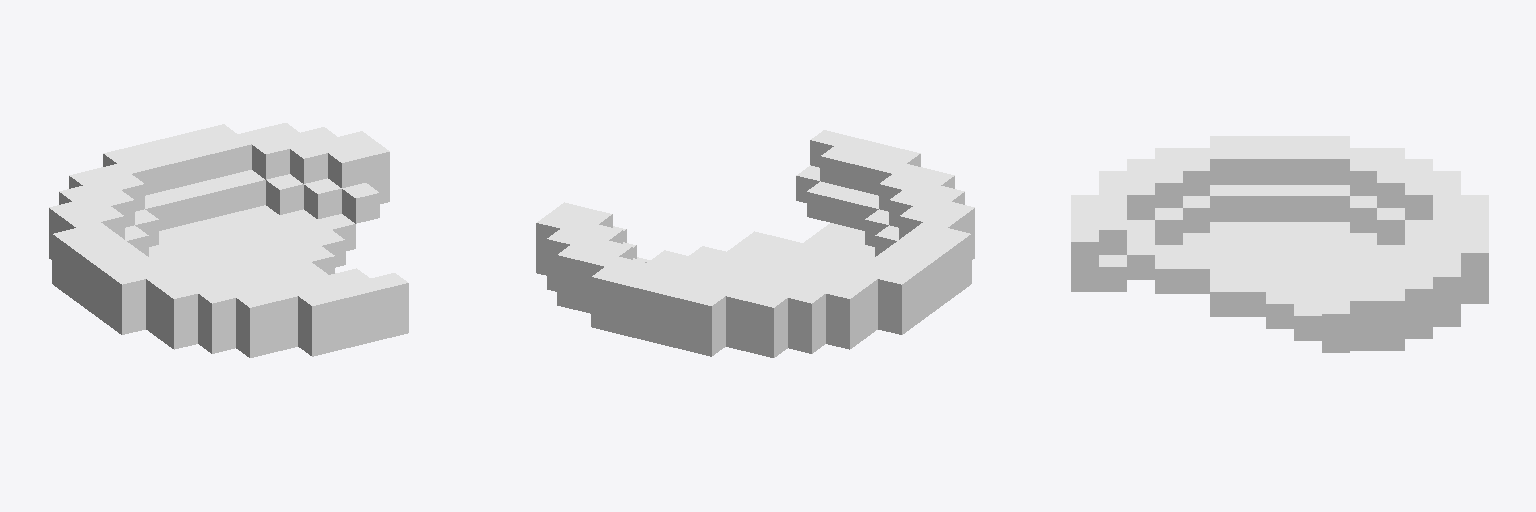
The model's file is Assiette1(Battle-Scarred).obj.
3 views of the same model, side by side, from view 1: azimuth 30°, elevation 25°; view 2: azimuth 150°, elevation 25°; view 3: azimuth 270°, elevation 25° (orthographic).
Parts seen in each view (by area): view 1: object 1; view 2: object 1; view 3: object 1.
Part boxes in pixels (x1,y1,x2,y2): object 1: (49,123,408,357); object 1: (536,130,974,357); object 1: (1071,136,1488,352).
Bounding box in the file's own units: 1.4 × 0.3 × 1.5.